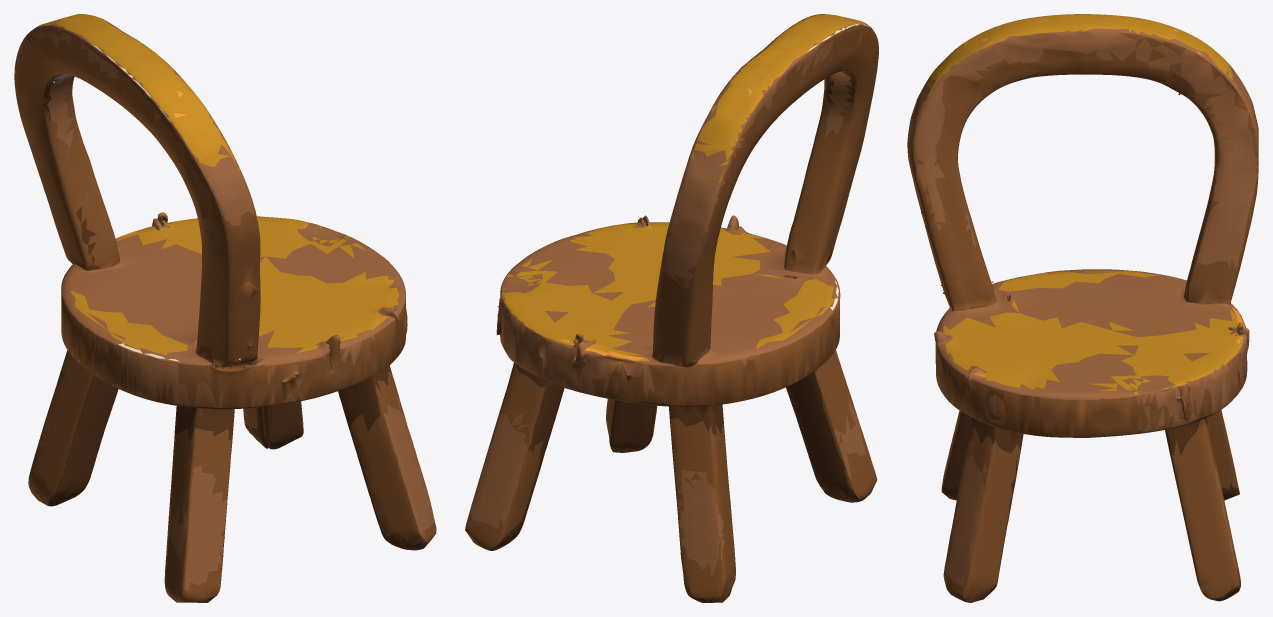
File: SM_chair_bentwood.fbx
3 renders of one model, left to right at view 1: azimuth 30°, elevation 25°; view 2: azimuth 150°, elevation 25°; view 3: azimuth 270°, elevation 25°, orthographic. The views are drawn at different scales.
Visible parts, largest first — view 1: SM_chair_bentwood; view 2: SM_chair_bentwood; view 3: SM_chair_bentwood.
Boxes of the visible parts, left/top/right/bottom form: SM_chair_bentwood: left=14, top=14, right=436, bottom=602; SM_chair_bentwood: left=465, top=14, right=878, bottom=602; SM_chair_bentwood: left=907, top=14, right=1258, bottom=602.
Bounding box in the file's own units: 50.63 × 85 × 57.03.
1 material, 1 textured.
